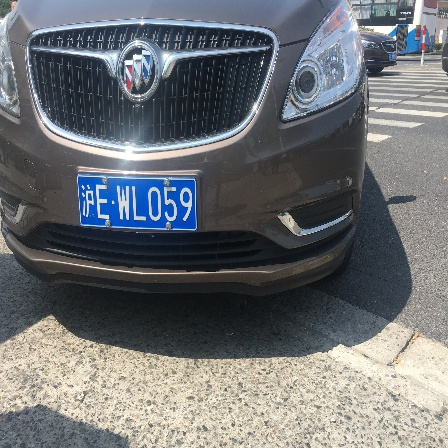plate: (70, 166, 203, 233)
